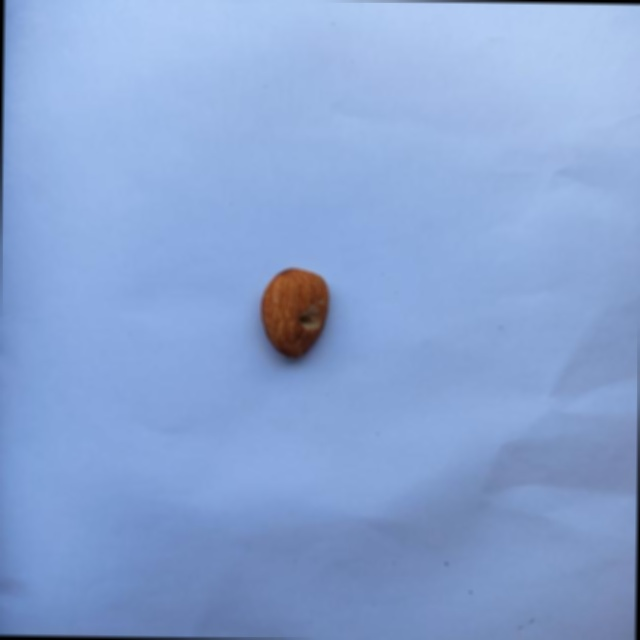grade3: (258, 264, 335, 363)
